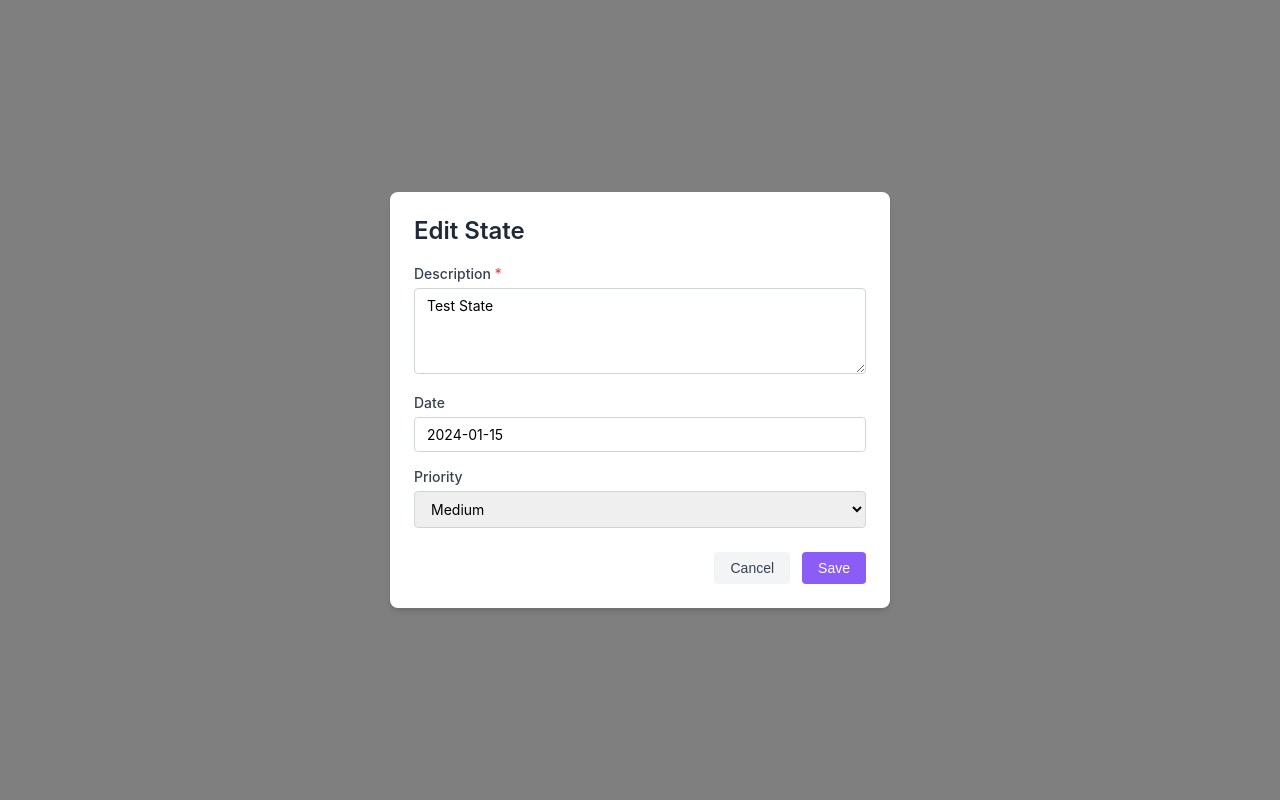
Test: StateEditorModal Component › validates description field
The width and height of the screenshot is (1280, 800).
// Clear description
Step 1. Clear the text box with test id "state-description-input" → (640, 331), box [414,288,866,374]
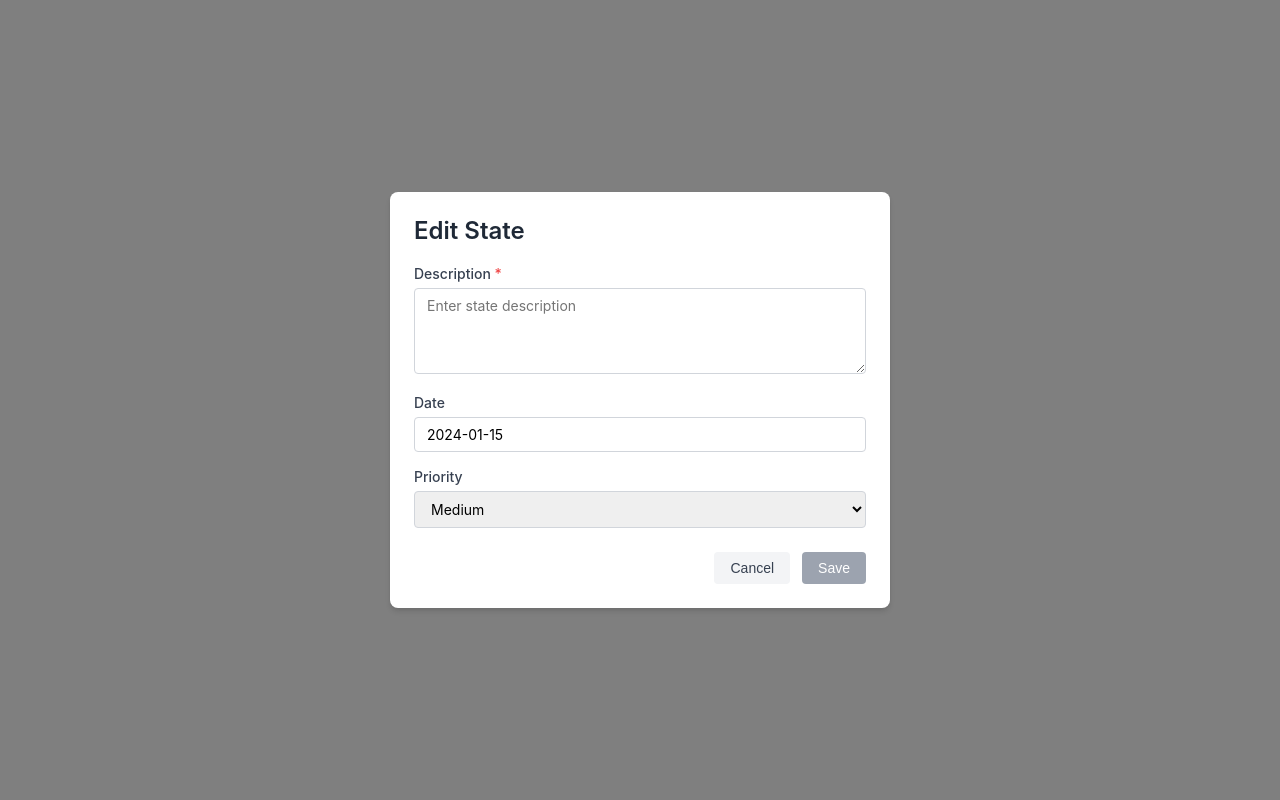
Expected: the button with test id "save-button" is disabled, [802,552,866,584]
// Fill description again
Step 2. Type "New Description" into the text box with test id "state-description-input" → (640, 331), box [414,288,866,374]
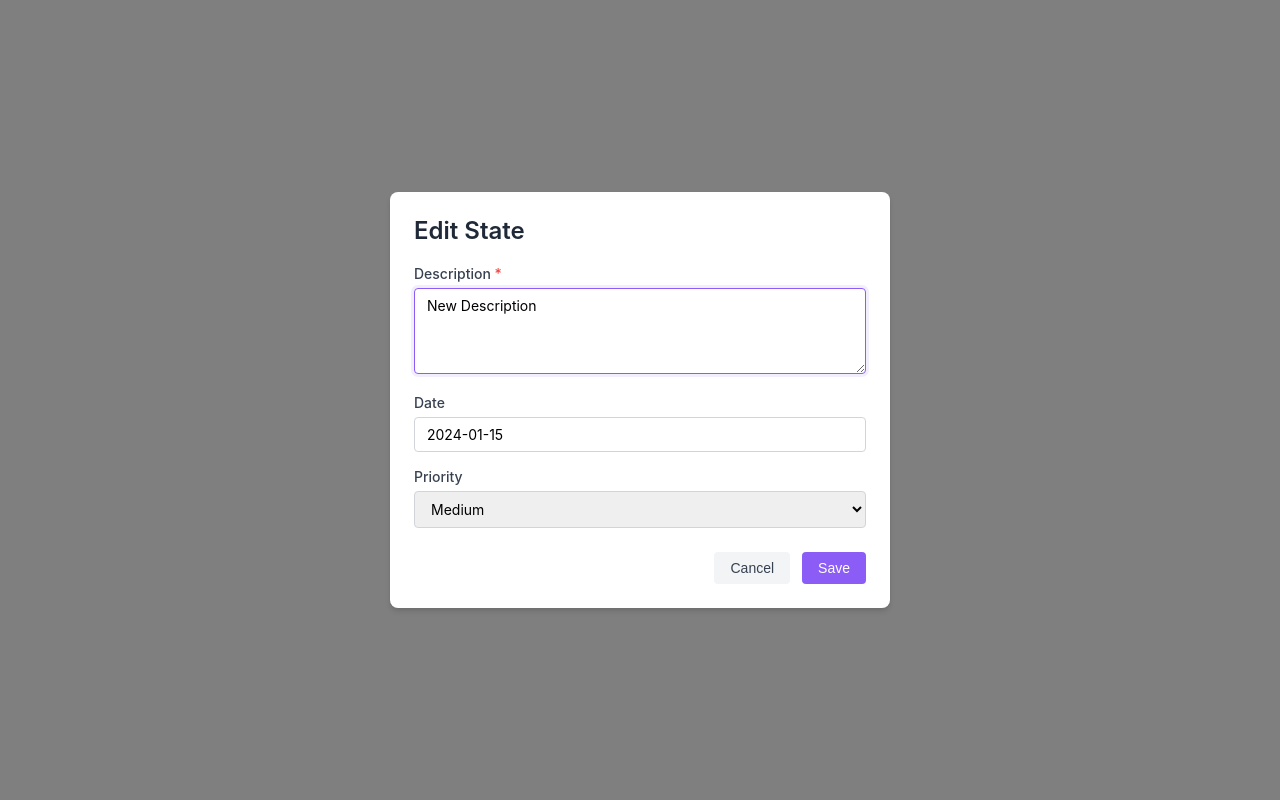
Expected: the button with test id "save-button" is enabled, [802,552,866,584]
